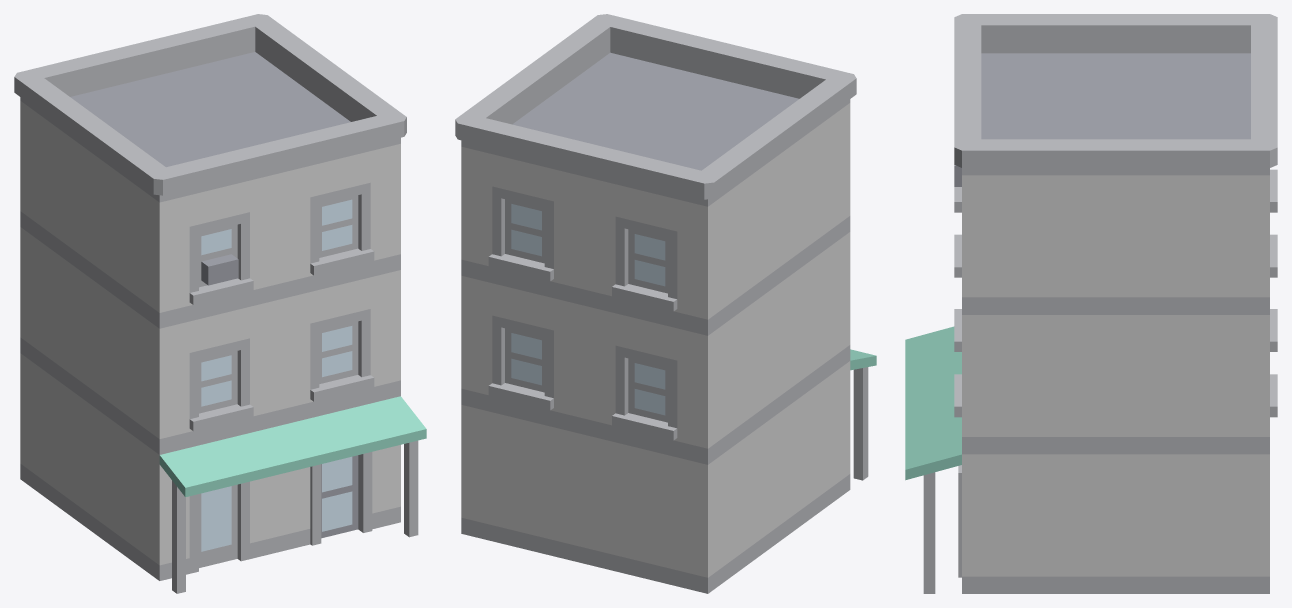
File: small_buildingD.glb
3 views of the same model, side by side, from view 1: azimuth 30°, elevation 25°; view 2: azimuth 150°, elevation 25°; view 3: azimuth 270°, elevation 25° (orthographic). The views are drawn at different scales.
Parts seen in each view (by area): view 1: small_buildingD; view 2: small_buildingD; view 3: small_buildingD.
Part boxes in pixels (<box>): small_buildingD: <box>14,14,426,593</box>; small_buildingD: <box>455,14,876,593</box>; small_buildingD: <box>905,14,1277,593</box>.
Size of the model in its own units: 0.84 by 1.28 by 0.9679.
